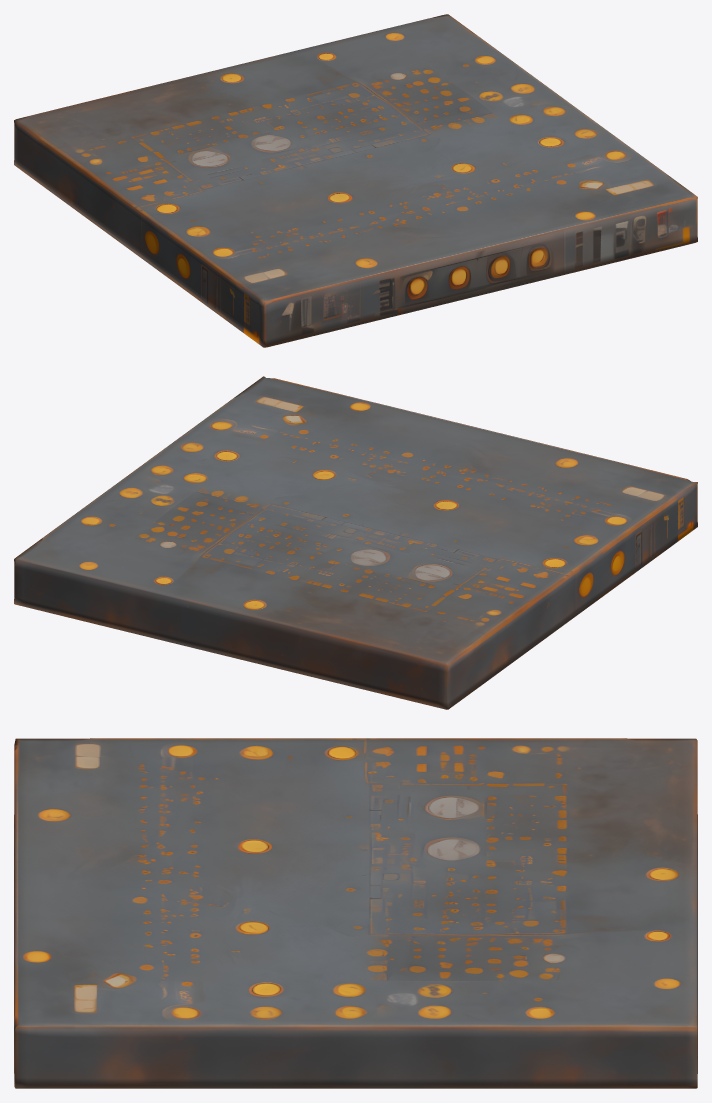
The model's file is BathroomWallPanelV2.glb.
3 renders of one model, top to bottom at view 1: azimuth 30°, elevation 25°; view 2: azimuth 150°, elevation 25°; view 3: azimuth 270°, elevation 25°, orthographic. The views are drawn at different scales.
Parts seen in each view (by area): view 1: model; view 2: model; view 3: model.
Part boxes in pixels (x1,y1,x2,y2): model: (14, 14, 697, 347); model: (14, 376, 697, 709); model: (14, 738, 697, 1088).
Size of the model in its own units: 19 by 1.96 by 19.
Materials: 1 (1 with a texture image).
